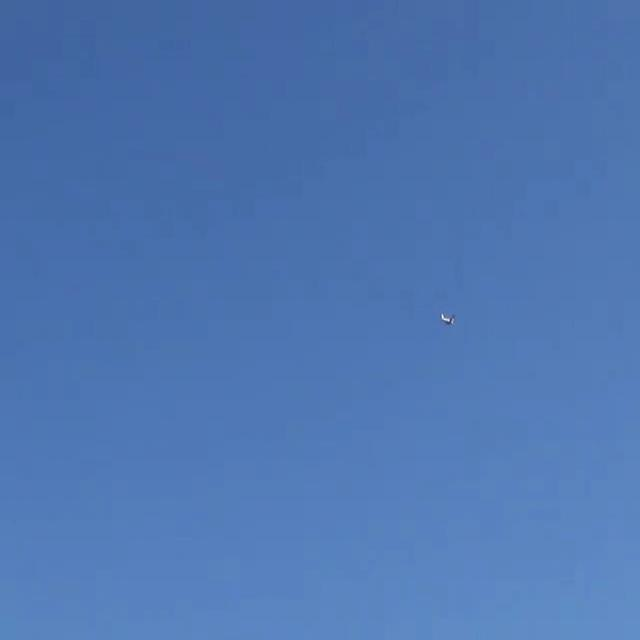AirPlane: (432, 301, 461, 336)
